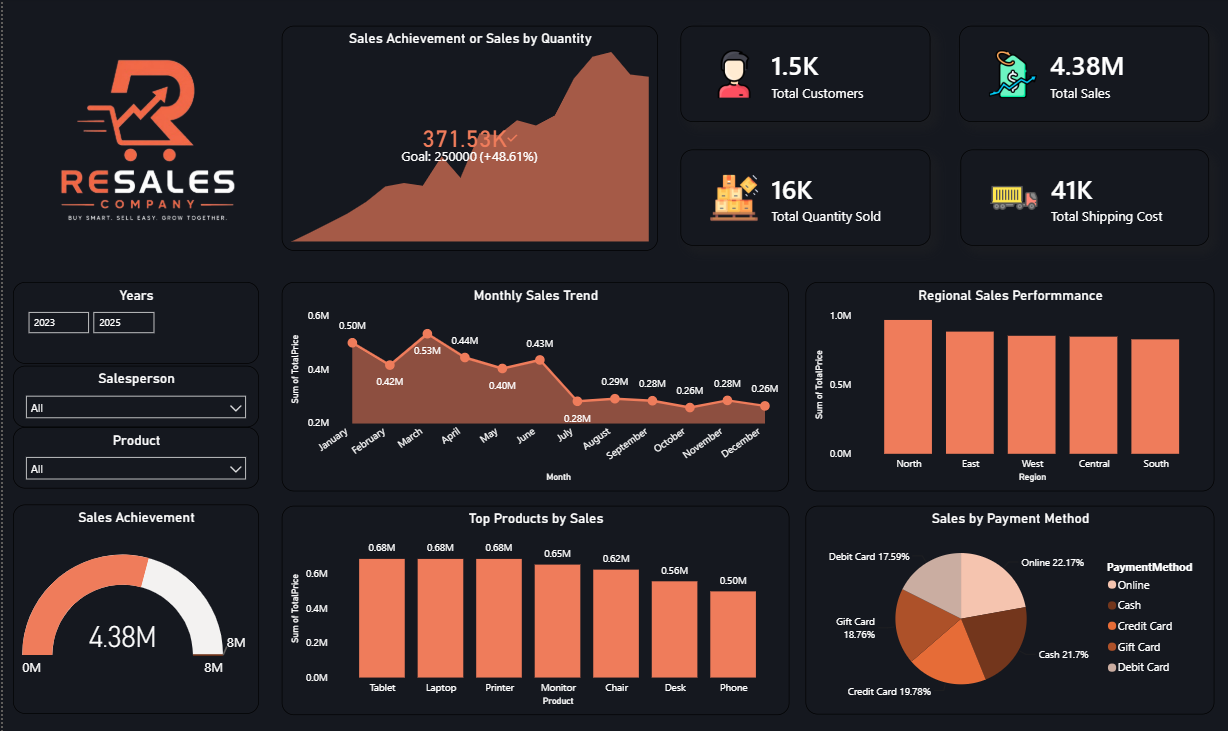

What the dashboard file says about the page in this screenshot:
{"tool":"powerbi","page":{"name":"Page 1","canvas":[1500,900],"ordinal":0},"visuals":[{"type":"cardVisual","fields":{"Data":["CountNonNull(Product-Sales-Region.CustomerName)"]},"box":[828.5,35.2,305.7,117.7],"z":0},{"type":"cardVisual","fields":{"Data":["Sum(Product-Sales-Region.Quantity)"]},"box":[828.5,186.5,305.7,117.7],"z":1000},{"type":"cardVisual","fields":{"Data":["Product-Sales-Region.Returned Orders"]},"box":[1170.9,186.5,304.2,117.7],"z":2000},{"type":"cardVisual","fields":{"Data":["Sum(Product-Sales-Region.TotalPrice)"]},"box":[1169.1,35.4,305.5,117.4],"z":3000},{"type":"columnChart","title":"Regional  Sales Performmance","fields":{"Category":["Product-Sales-Region.Region"],"Y":["Sum(Product-Sales-Region.TotalPrice)"]},"box":[980.9,349,500,255.7],"z":4000},{"type":"pieChart","title":"Sales by Payment Method","fields":{"Category":["Product-Sales-Region.PaymentMethod"],"Y":["Sum(Product-Sales-Region.TotalPrice)"]},"box":[980.9,622.3,500,255],"z":5000},{"type":"slicer","title":"Years","fields":{"Values":["Product-Sales-Region.DeliveryDate.Variation.Date Hierarchy.Year"]},"box":[12.9,349,300.7,99.7],"z":6000},{"type":"slicer","title":"Product","fields":{"Values":["Product-Sales-Region.Product"]},"box":[12.9,525.8,300.7,75.6],"z":7000},{"type":"slicer","title":"Salesperson","fields":{"Values":["Product-Sales-Region.Salesperson"]},"box":[12.9,450.3,300.7,75.6],"z":8000},{"type":"kpi","title":"Sales Achievement or Sales by Quantity","fields":{"Indicator":["Sum(Product-Sales-Region.TotalPrice)"],"TrendLine":["Product-Sales-Region.Quantity"],"Goal":["Product-Sales-Region.Measure"]},"box":[340.9,35.4,459.9,275],"z":9000},{"type":"image","box":[12.9,17.7,328,310.4],"z":10000},{"type":"lineChart","title":"Monthly Sales Trend","fields":{"Category":["Product-Sales-Region.Date.Variation.Date Hierarchy.Month"],"Y":["Sum(Product-Sales-Region.TotalPrice)"]},"box":[340.9,349,620,255.7],"z":11000},{"type":"columnChart","title":"Top Products by Sales","fields":{"Category":["Product-Sales-Region.Product"],"Y":["Sum(Product-Sales-Region.TotalPrice)"]},"box":[340.9,622.3,620.7,255.7],"z":12000},{"type":"gauge","title":"Sales Achievement","fields":{"Y":["Sum(Product-Sales-Region.TotalPrice)"],"TargetValue":["Product-Sales-Region.Measure 2"],"MaxValue":["Product-Sales-Region.Measure 2"],"MinValue":["Product-Sales-Region.Measure 3"]},"box":[12.9,620.7,300.7,255.7],"z":13000}]}

Visuals, with their boxes in screenshot pixels (x1, y1, x2, y2), scaled from the page's 1500x900 canvas onto the 1228x731 screenshot:
cardVisual - CountNonNull(Product-Sales-Region.CustomerName): region(678, 29, 929, 124)
cardVisual - Sum(Product-Sales-Region.Quantity): region(678, 151, 929, 247)
cardVisual - Product-Sales-Region.Returned Orders: region(959, 151, 1208, 247)
cardVisual - Sum(Product-Sales-Region.TotalPrice): region(957, 29, 1207, 124)
"Regional  Sales Performmance" columnChart: region(803, 283, 1212, 491)
"Sales by Payment Method" pieChart: region(803, 505, 1212, 713)
"Years" slicer: region(11, 283, 257, 364)
"Product" slicer: region(11, 427, 257, 488)
"Salesperson" slicer: region(11, 366, 257, 427)
"Sales Achievement or Sales by Quantity" kpi: region(279, 29, 656, 252)
image: region(11, 14, 279, 266)
"Monthly Sales Trend" lineChart: region(279, 283, 787, 491)
"Top Products by Sales" columnChart: region(279, 505, 787, 713)
"Sales Achievement" gauge: region(11, 504, 257, 712)
